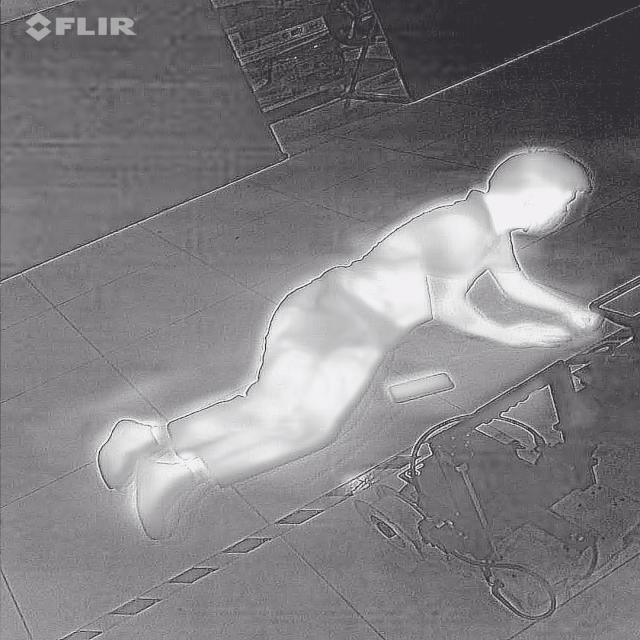Victim: (85, 138, 614, 552)
